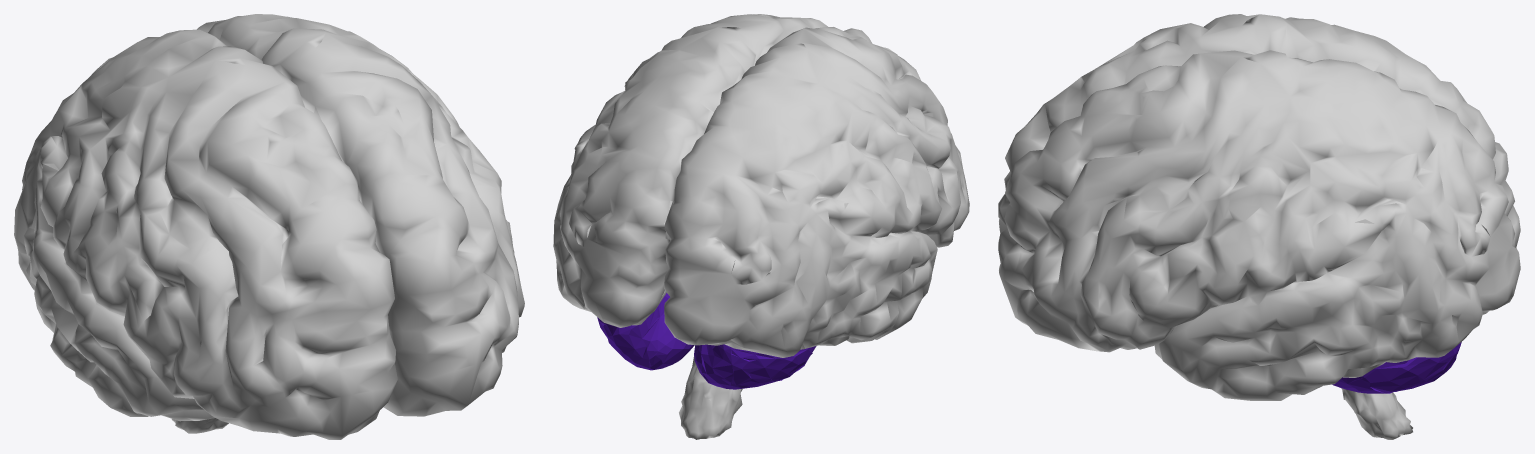
File: Brain_low_poly_obj.obj
3 views of the same model, side by side, from view 1: azimuth 30°, elevation 25°; view 2: azimuth 150°, elevation 25°; view 3: azimuth 270°, elevation 25° (orthographic). The views are drawn at different scales.
Parts seen in each view (by area): view 1: Brain, medulla; view 2: Brain, cerebellum, medulla; view 3: Brain, cerebellum, medulla.
Part boxes in pixels (left/top/right/bottom): Brain: left=14, top=14, right=524, bottom=439; medulla: left=171, top=418, right=228, bottom=433; Brain: left=553, top=14, right=969, bottom=357; cerebellum: left=597, top=293, right=816, bottom=389; medulla: left=679, top=356, right=742, bottom=439; Brain: left=998, top=14, right=1520, bottom=400; cerebellum: left=1332, top=342, right=1461, bottom=393; medulla: left=1341, top=388, right=1412, bottom=439.
Bounding box in the file's own units: 13.88 × 14.51 × 17.54.
